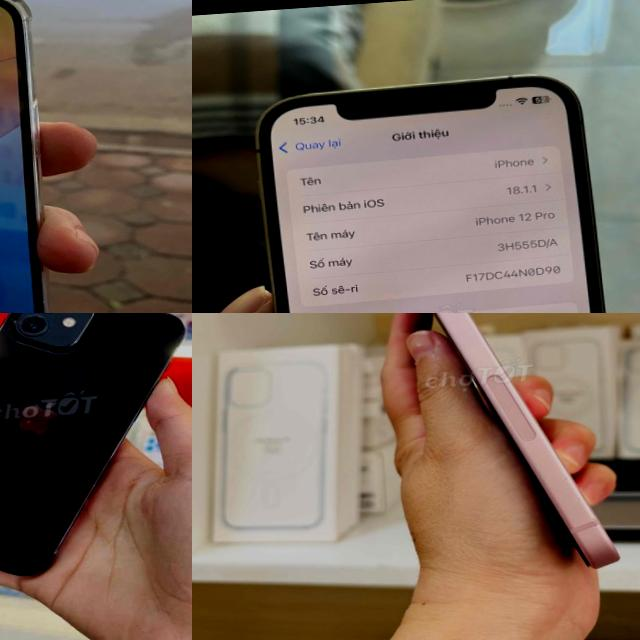gen_12_13: (240, 66, 633, 313), (0, 313, 192, 587), (0, 0, 75, 313)
gen_15: (338, 313, 633, 593)
